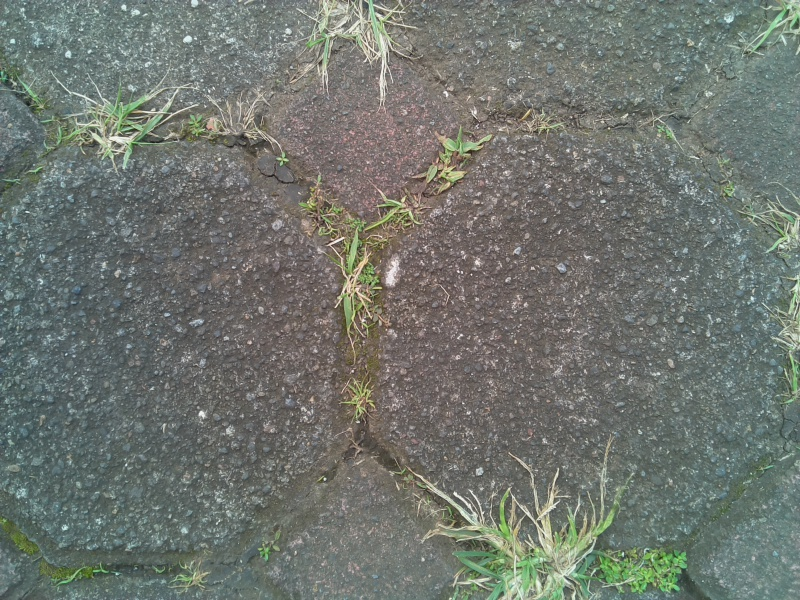Weed: (409, 474, 536, 599), (529, 465, 619, 600), (307, 1, 407, 83), (73, 85, 170, 160), (593, 546, 693, 595), (201, 92, 284, 151), (299, 184, 369, 246), (336, 233, 376, 337), (767, 275, 800, 399), (419, 130, 482, 190), (26, 97, 87, 154), (369, 191, 420, 239), (334, 373, 381, 424), (763, 197, 800, 261), (520, 103, 572, 144), (48, 559, 118, 589), (165, 559, 214, 596), (643, 109, 682, 146), (185, 111, 210, 145), (253, 539, 282, 562), (272, 148, 293, 173)
